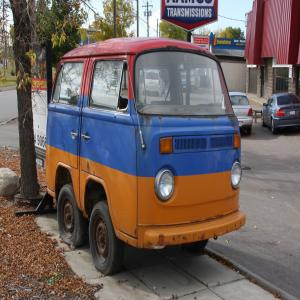Vehicle-registration-plate: (290, 112, 296, 117), (240, 123, 243, 127)
